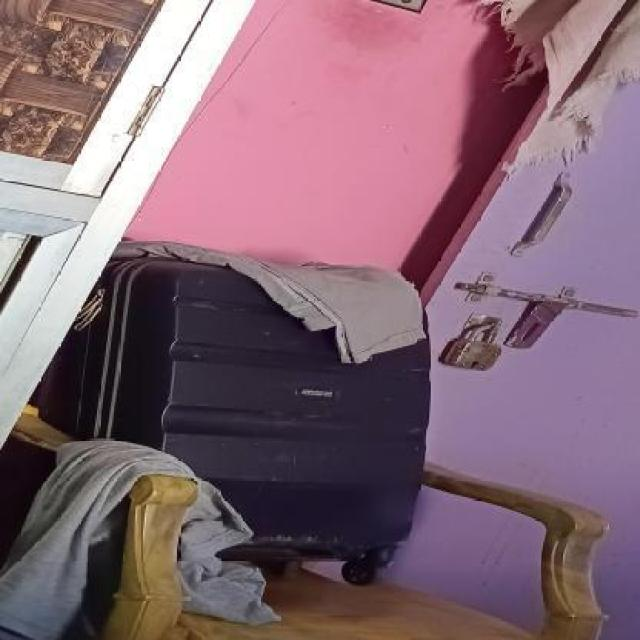backpack: (85, 245, 437, 592)
